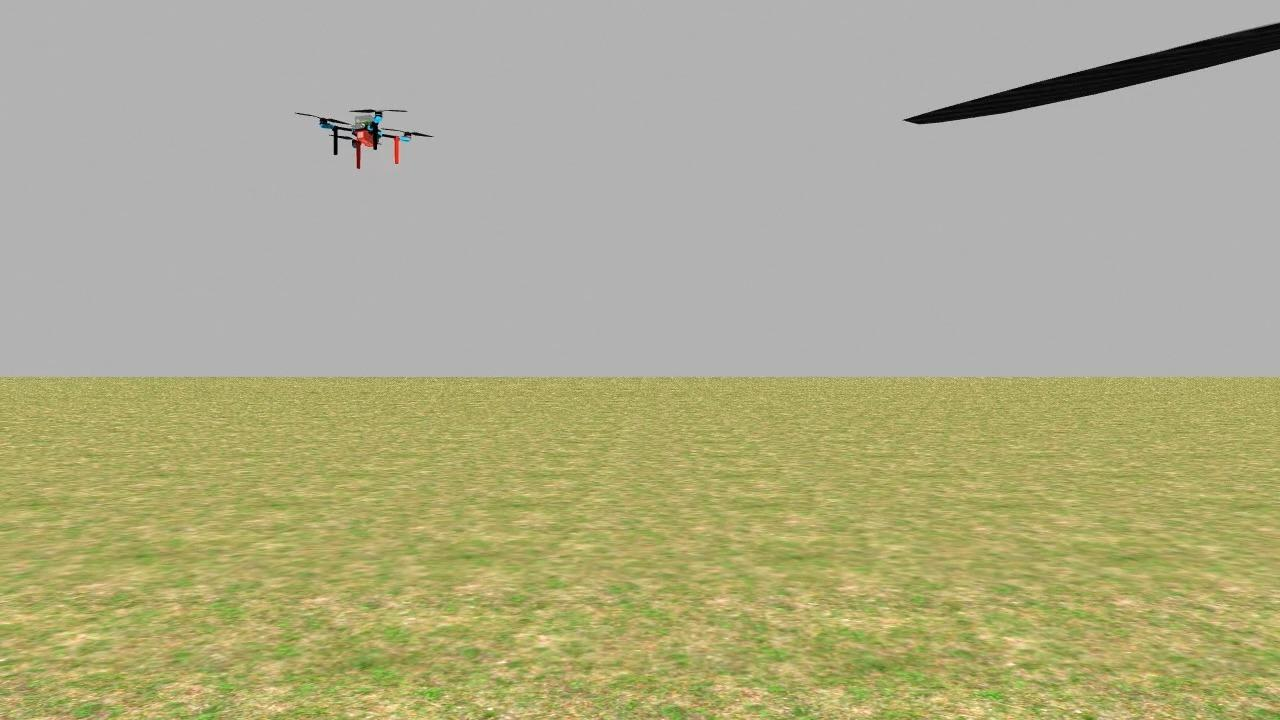UAV: (308, 88, 437, 185)
